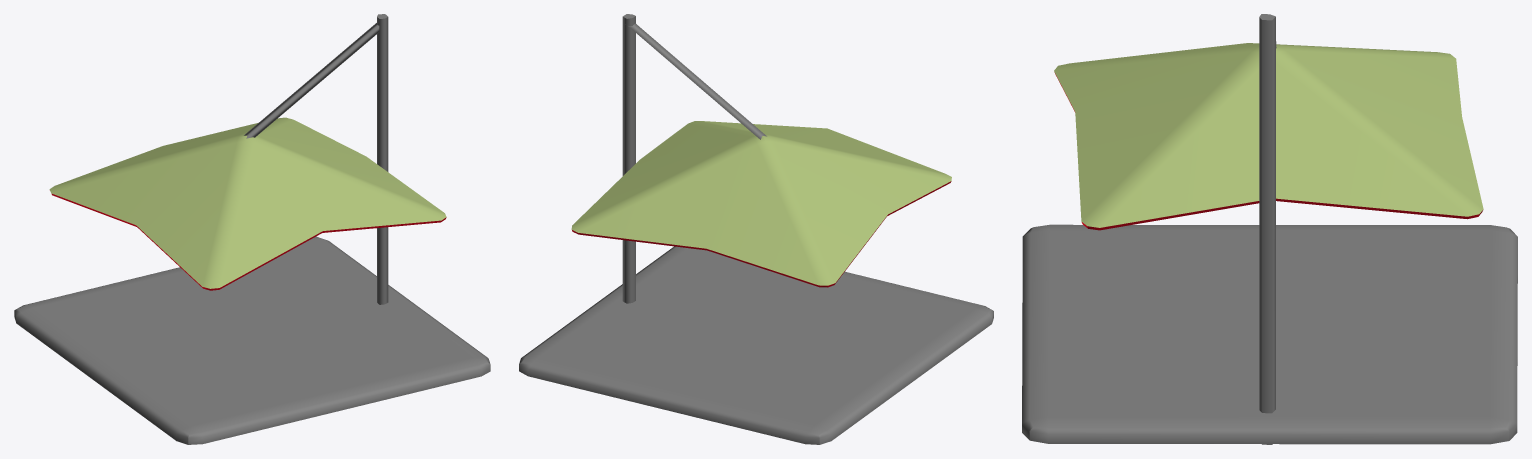
The model's file is SM_Umbrella12.fbx.
3 renders of one model, left to right at view 1: azimuth 30°, elevation 25°; view 2: azimuth 150°, elevation 25°; view 3: azimuth 270°, elevation 25°, orthographic. The views are drawn at different scales.
Parts seen in each view (by area): view 1: SM_Umbrella12; view 2: SM_Umbrella12; view 3: SM_Umbrella12.
Part boxes in pixels (bbox=[...]): SM_Umbrella12: bbox=[14, 14, 490, 444]; SM_Umbrella12: bbox=[519, 14, 993, 444]; SM_Umbrella12: bbox=[1022, 14, 1517, 444].
Bounding box in the file's own units: 379 × 358 × 379.
